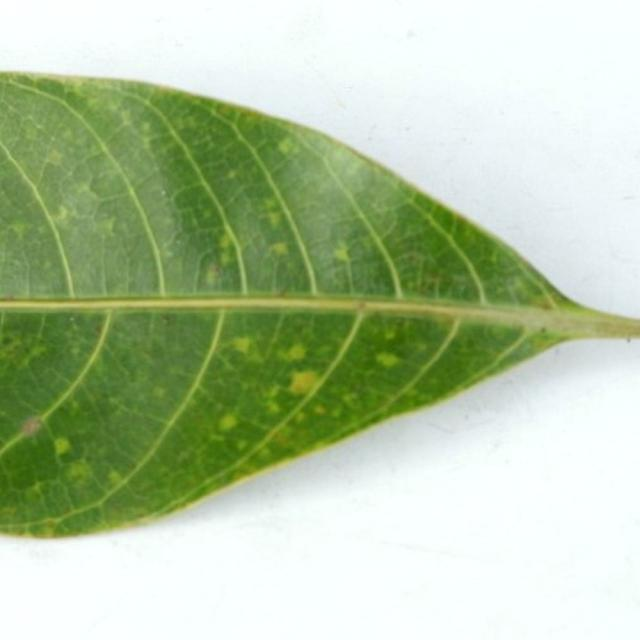Mango: (0, 74, 639, 536)
Powdery_Mildew: (226, 323, 259, 357), (287, 370, 320, 395), (271, 426, 298, 449), (277, 343, 307, 362), (68, 461, 90, 481), (97, 216, 117, 237), (8, 220, 31, 238), (52, 203, 70, 223), (21, 418, 41, 436), (204, 262, 220, 284), (375, 352, 398, 367), (219, 230, 236, 250), (218, 414, 238, 431), (45, 148, 63, 166), (27, 343, 47, 359), (54, 436, 71, 454), (333, 245, 350, 263), (265, 210, 282, 227), (24, 127, 42, 143), (269, 241, 288, 256), (277, 138, 294, 154), (110, 469, 125, 484), (512, 276, 527, 291), (119, 108, 133, 124), (38, 524, 55, 537), (151, 386, 167, 399), (266, 401, 280, 415), (383, 328, 397, 341), (342, 393, 357, 405), (140, 122, 152, 134), (237, 439, 248, 450), (226, 169, 237, 180)
